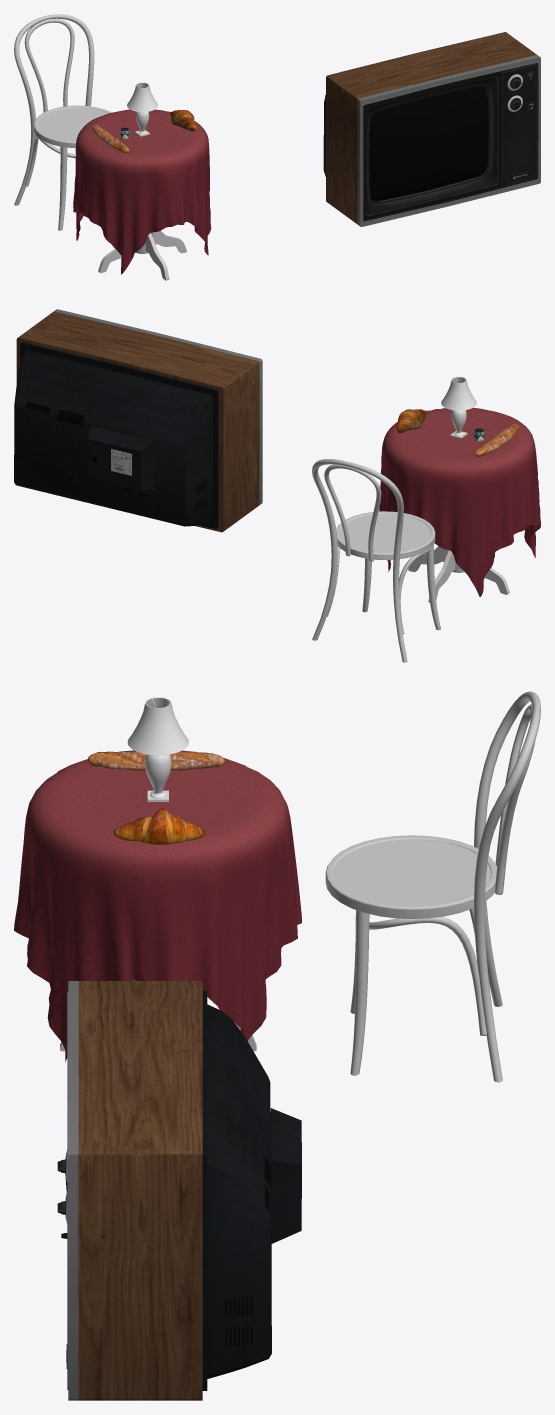
The model's file is RapAndVogueAssets.fbx.
3 renders of one model, top to bottom at view 1: azimuth 30°, elevation 25°; view 2: azimuth 150°, elevation 25°; view 3: azimuth 270°, elevation 25°, orthographic. The views are drawn at different scales.
Parts seen in each view (by area): view 1: TV_1970, Cloth_low, chairViennese, Table, Lamp, croissant, Baguette; view 2: TV_1970, Cloth_low, chairViennese, Table, Lamp, Baguette, croissant; view 3: TV_1970, Cloth_low, chairViennese, Lamp, croissant, Baguette.
Boxes of the visible parts, x1,y1,x2,y2 form: TV_1970: (323,32,540,226); Cloth_low: (73,109,211,274); chairViennese: (14,14,111,230); Table: (98,231,186,280); Lamp: (127,82,158,136); croissant: (170,110,196,131); Baguette: (92,124,129,153); TV_1970: (14,309,262,532); Cloth_low: (379,407,540,596); chairViennese: (312,459,440,662); Table: (408,409,509,602); Lamp: (441,376,476,438); Baguette: (474,423,519,456); croissant: (396,409,426,432); TV_1970: (57,981,301,1400); Cloth_low: (14,750,301,1062); chairViennese: (325,691,540,1082); Lamp: (127,697,188,801); croissant: (113,808,204,844); Baguette: (87,751,224,770).
Size of the model in its own units: 238 by 91.83 by 126.
